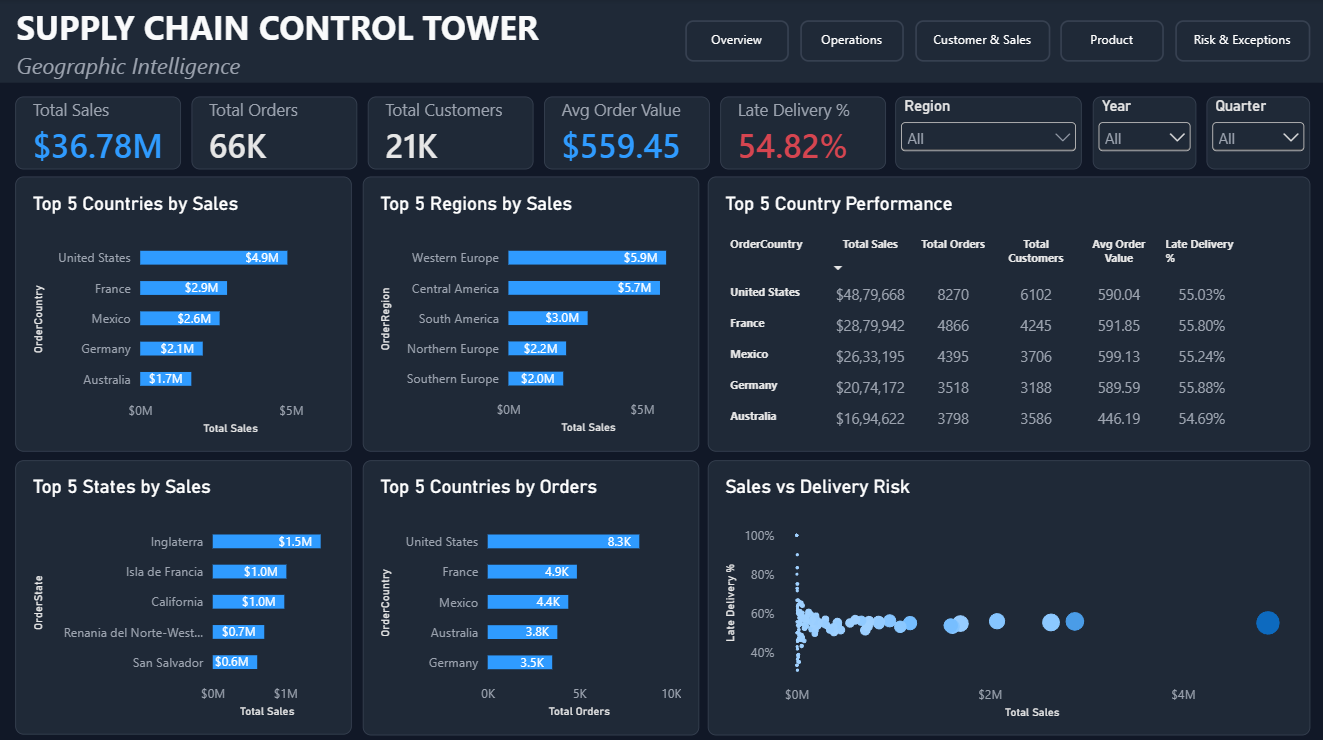

What the dashboard file says about the page in this screenshot:
{"tool":"powerbi","page":{"name":"Geographic Intelligence","canvas":[1280,720],"ordinal":2},"visuals":[{"type":"shape","box":[0,0,1920.7,80.8],"z":0},{"type":"textbox","box":[16.9,49.5,599.6,31.4],"z":1000},{"type":"textbox","box":[16.9,4.8,600,45],"z":2000},{"type":"cardVisual","fields":{"Data":["Dax_Measures.Total Sales"]},"box":[16.3,94,160,70.2],"z":3000},{"type":"cardVisual","fields":{"Data":["Dax_Measures.Late Delivery %"]},"box":[695.6,94,160,70],"z":4000},{"type":"cardVisual","fields":{"Data":["Dax_Measures.Average Order Value"]},"box":[525.7,94,160,70],"z":5000},{"type":"cardVisual","fields":{"Data":["Dax_Measures.Total Customers"]},"box":[355.9,94,160,70],"z":6000},{"type":"cardVisual","fields":{"Data":["Dax_Measures.Total Orders"]},"box":[186.1,94,160,70],"z":7000},{"type":"clusteredBarChart","title":"Top 5 Countries by Sales","fields":{"Y":["Dax_Measures.Total Sales"],"Category":["Dim_Geography.OrderCountry"]},"box":[16.3,171.6,324.4,265.6],"z":8000},{"type":"clusteredBarChart","title":"Top 5 Regions by Sales","fields":{"Y":["Dax_Measures.Total Sales"],"Category":["Dim_Geography.OrderRegion"]},"box":[350.7,171,324.7,265.2],"z":9000},{"type":"clusteredBarChart","title":"Top 5 States by Sales","fields":{"Y":["Dax_Measures.Total Sales"],"Category":["Dim_Geography.OrderState"]},"box":[16.3,444.7,325,265],"z":10000},{"type":"pivotTable","title":"Top 5 Country Performance","fields":{"Rows":["Dim_Geography.OrderCountry"],"Values":["Dax_Measures.Total Sales","Dax_Measures.Total Orders","Dax_Measures.Total Customers","Dax_Measures.Average Order Value","Dax_Measures.Late Delivery %"]},"box":[684,171.6,581.3,265.6],"z":11000},{"type":"clusteredBarChart","title":"Top 5 Countries by Orders","fields":{"Y":["Dax_Measures.Total Orders"],"Category":["Dim_Geography.OrderCountry"]},"box":[350.7,444.9,324.7,265.2],"z":12000},{"type":"scatterChart","title":"Sales vs Delivery Risk","fields":{"X":["Dax_Measures.Total Sales"],"Y":["Dax_Measures.Late Delivery %"],"Size":["Dax_Measures.Total Orders"],"Series":["Dim_Geography.OrderCountry"]},"box":[684,444.7,581.3,265.6],"z":13000},{"type":"slicer","fields":{"Values":["Dim_Date.Year"]},"box":[1055.2,94,100,70],"z":14000},{"type":"slicer","fields":{"Values":["Dim_Date.Quarter"]},"box":[1165,94,100,70.2],"z":15000},{"type":"slicer","fields":{"Values":["Dim_Geography.OrderRegion"]},"box":[865.4,94,180,70.2],"z":16000},{"type":"actionButton","box":[662.5,20.5,100,40],"z":17000},{"type":"actionButton","box":[773.2,20.5,100,40],"z":18000},{"type":"actionButton","box":[883.9,20.5,130,40],"z":19000},{"type":"actionButton","box":[1024.6,20.5,100,40],"z":20000},{"type":"actionButton","box":[1135.3,20.5,130,40],"z":21000}]}

Visuals, with their boxes in screenshot pixels (x1, y1, x2, y2), scaled from the page's 1280x720 canvas onto the 1323x740 screenshot:
shape: (0,0,1322,83)
textbox: (17,51,637,83)
textbox: (17,5,638,51)
cardVisual - Dax_Measures.Total Sales: (17,97,182,169)
cardVisual - Dax_Measures.Late Delivery %: (719,97,884,169)
cardVisual - Dax_Measures.Average Order Value: (543,97,709,169)
cardVisual - Dax_Measures.Total Customers: (368,97,533,169)
cardVisual - Dax_Measures.Total Orders: (192,97,358,169)
"Top 5 Countries by Sales" clusteredBarChart: (17,176,352,449)
"Top 5 Regions by Sales" clusteredBarChart: (362,176,698,448)
"Top 5 States by Sales" clusteredBarChart: (17,457,353,729)
"Top 5 Country Performance" pivotTable: (707,176,1308,449)
"Top 5 Countries by Orders" clusteredBarChart: (362,457,698,730)
"Sales vs Delivery Risk" scatterChart: (707,457,1308,730)
slicer - Dim_Date.Year: (1091,97,1194,169)
slicer - Dim_Date.Quarter: (1204,97,1307,169)
slicer - Dim_Geography.OrderRegion: (894,97,1081,169)
actionButton: (685,21,788,62)
actionButton: (799,21,903,62)
actionButton: (914,21,1048,62)
actionButton: (1059,21,1162,62)
actionButton: (1173,21,1308,62)
